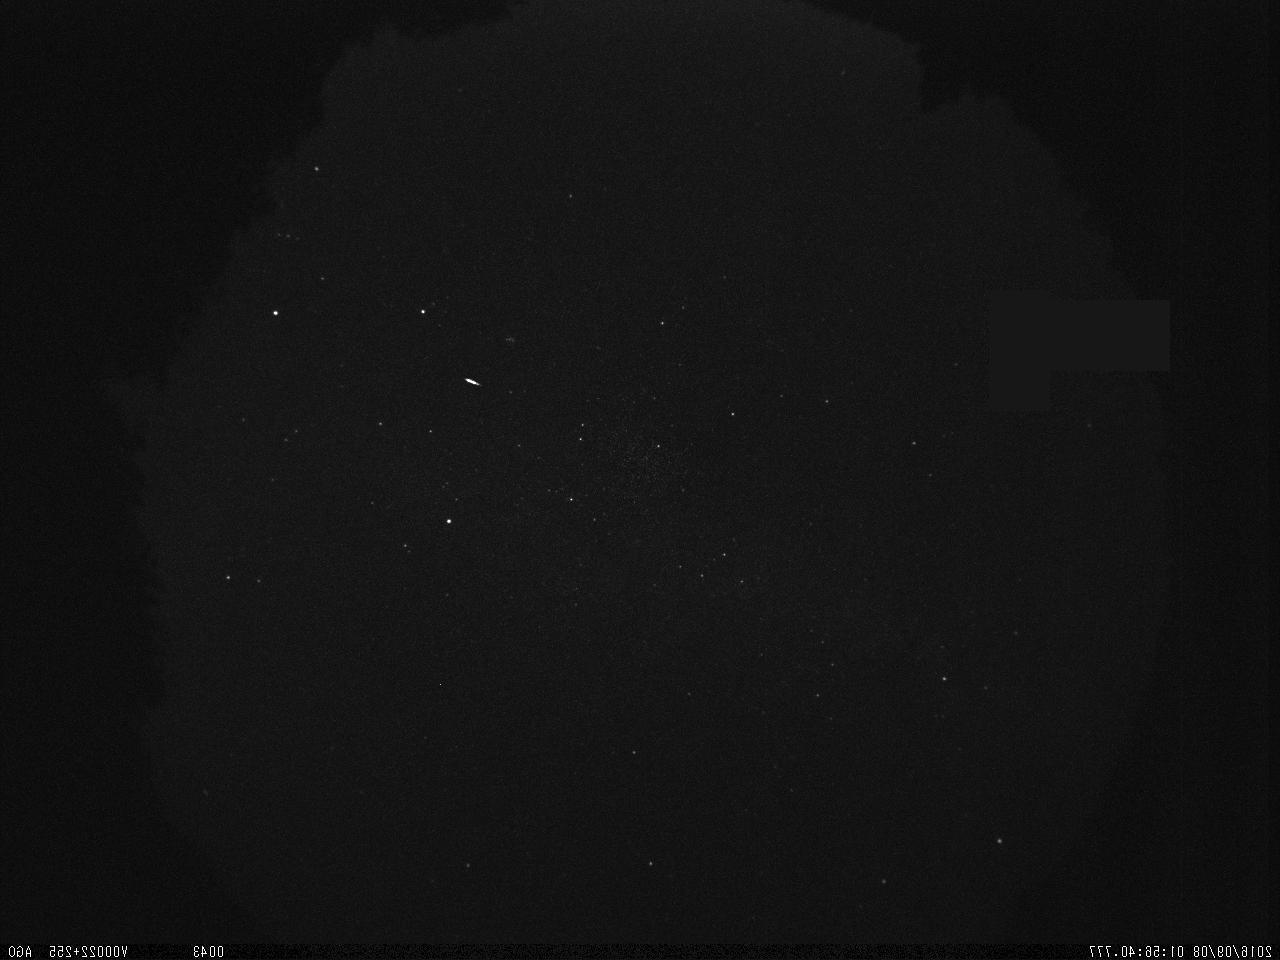meteor: (456, 374, 489, 394)
